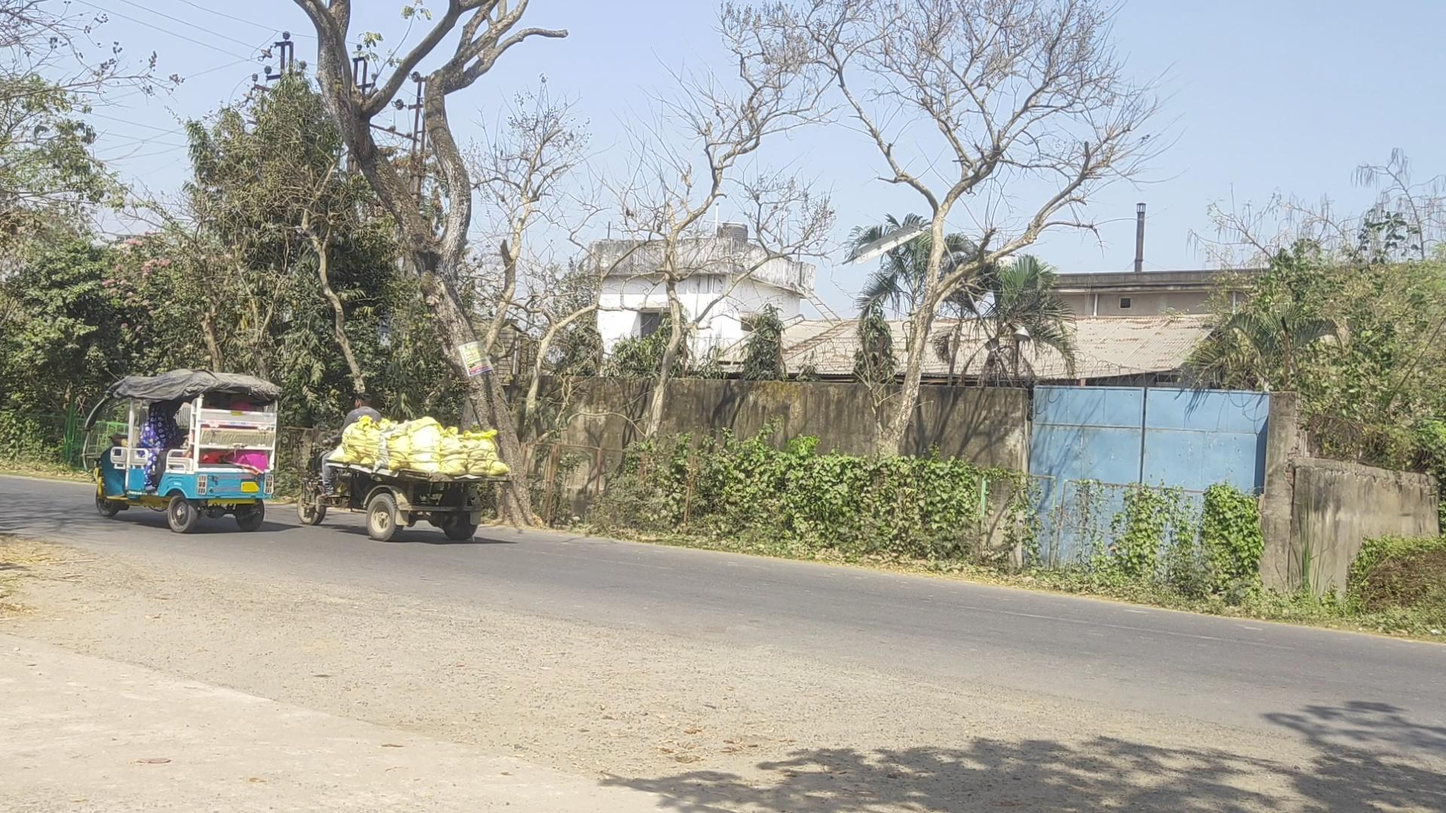Auto: (83, 369, 279, 533)
